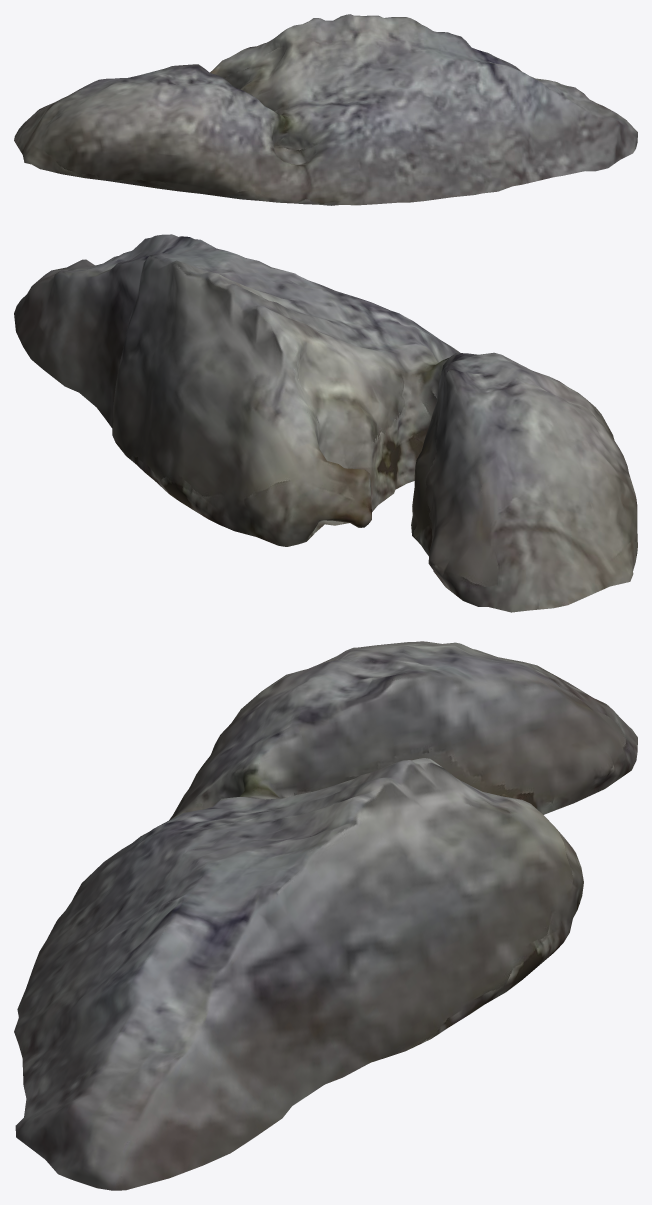
Rendered from boulder-a.glb.
3 renders of one model, top to bottom at view 1: azimuth 30°, elevation 25°; view 2: azimuth 150°, elevation 25°; view 3: azimuth 270°, elevation 25°, orthographic. The views are drawn at different scales.
Visible parts, largest first — view 1: boulder-a; view 2: boulder-a; view 3: boulder-a.
Part boxes in pixels (bbox=[...]): boulder-a: bbox=[14, 14, 637, 205]; boulder-a: bbox=[14, 234, 637, 612]; boulder-a: bbox=[14, 641, 637, 1190].
Size of the model in its own units: 2.18 by 0.501 by 1.27.
Materials: 1 (1 with a texture image).
